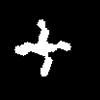single_crochet: (15, 19, 70, 75)
